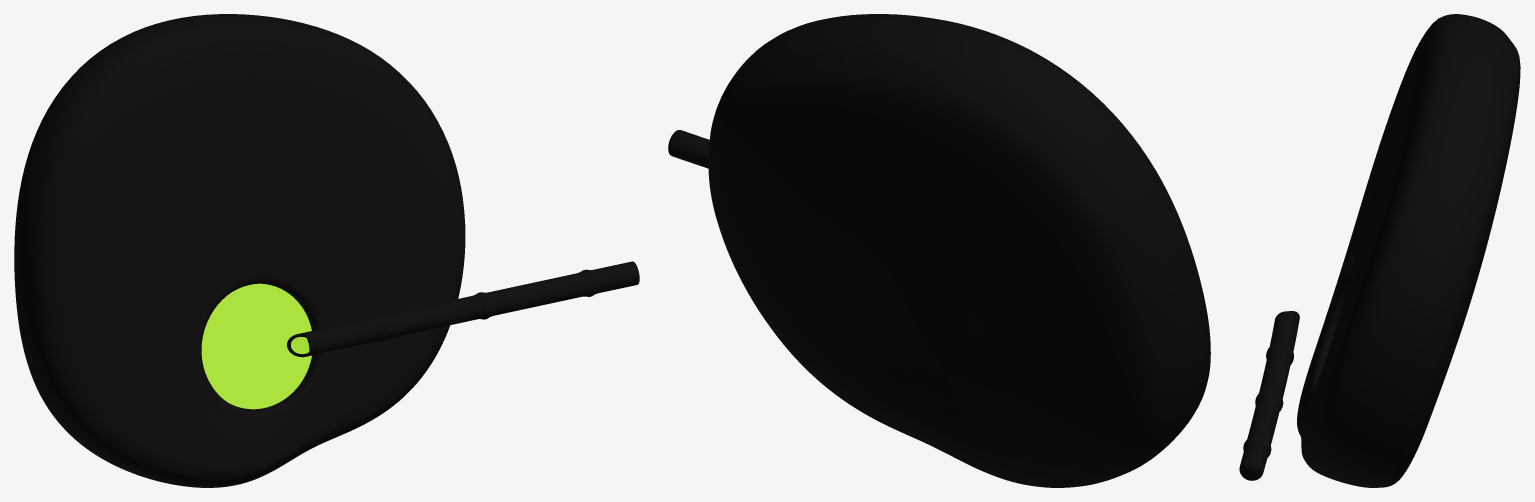
3 renders of one model, left to right at view 1: azimuth 30°, elevation 25°; view 2: azimuth 150°, elevation 25°; view 3: azimuth 270°, elevation 25°, orthographic. The views are drawn at different scales.
Visible parts, largest first — view 1: ishi, mizu, kakei; view 2: ishi, kakei; view 3: ishi, kakei.
Boxes of the visible parts, box(x1,y1,x2,y2) form: ishi: box(14, 14, 465, 487); mizu: box(201, 283, 311, 409); kakei: box(287, 261, 639, 357); ishi: box(708, 14, 1210, 487); kakei: box(668, 130, 709, 168); ishi: box(1297, 14, 1520, 487); kakei: box(1239, 311, 1299, 480).
Bounding box in the file's own units: 5.34 × 4.01 × 2.41.
